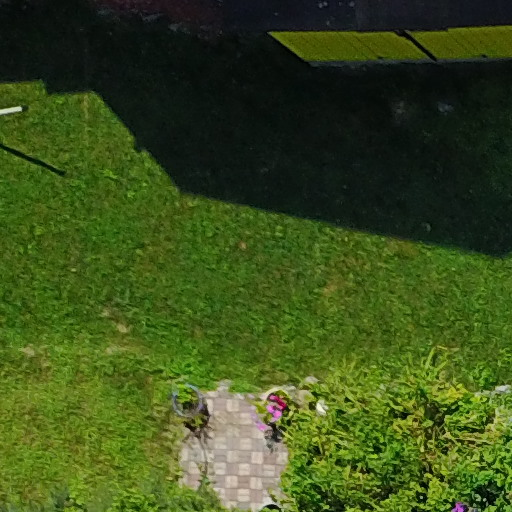flower pot: (251, 377, 295, 441), (164, 379, 209, 425)
